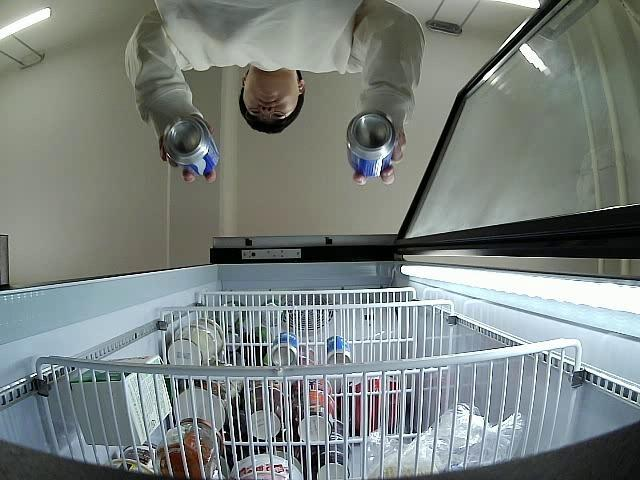13_pocariSweat: (160, 116, 221, 178), (346, 111, 397, 177)
